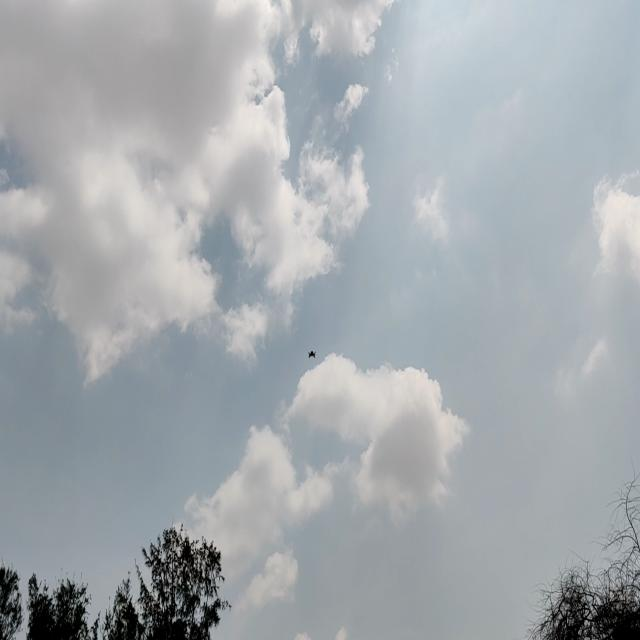drone: (304, 343, 320, 368)
